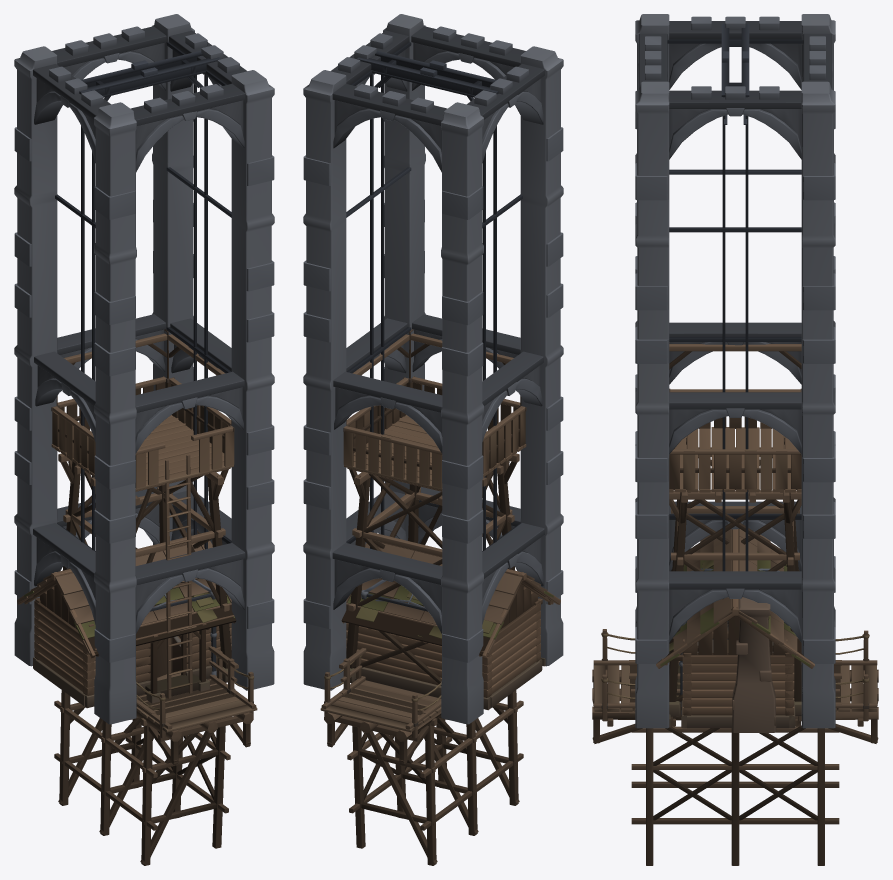
The model's file is sector0506_camp_heights.glb.
3 views of the same model, side by side, from view 1: azimuth 30°, elevation 25°; view 2: azimuth 150°, elevation 25°; view 3: azimuth 270°, elevation 25° (orthographic). The views are drawn at different scales.
Visible parts, largest first — view 1: Lift_Tower_Stone, Hunter_Watchtower_Wood, Hunter_Barracks_Shack, Cliff_Scaffold_Bay, Ravine_Plank_Bridge, Lift_Cage_Iron; view 2: Lift_Tower_Stone, Hunter_Watchtower_Wood, Hunter_Barracks_Shack, Cliff_Scaffold_Bay, Ravine_Plank_Bridge; view 3: Lift_Tower_Stone, Hunter_Watchtower_Wood, Hunter_Barracks_Shack, Cliff_Scaffold_Bay, Ravine_Plank_Bridge.
Boxes of the visible parts, x1,y1,x2,y2 form: Lift_Tower_Stone: (14,14,274,724); Hunter_Watchtower_Wood: (51,329,234,698); Hunter_Barracks_Shack: (17,529,236,708); Cliff_Scaffold_Bay: (54,646,238,865); Ravine_Plank_Bridge: (130,651,257,764); Lift_Cage_Iron: (150,579,216,675); Lift_Tower_Stone: (303,14,563,724); Hunter_Watchtower_Wood: (343,329,526,685); Hunter_Barracks_Shack: (341,542,560,710); Cliff_Scaffold_Bay: (339,648,523,865); Ravine_Plank_Bridge: (320,650,447,764); Lift_Tower_Stone: (635,14,835,728); Hunter_Watchtower_Wood: (669,342,801,716); Hunter_Barracks_Shack: (656,529,814,732); Cliff_Scaffold_Bay: (629,660,841,865); Ravine_Plank_Bridge: (592,629,878,743).
Bounding box in the file's own units: 6.2 × 24.5 × 8.
